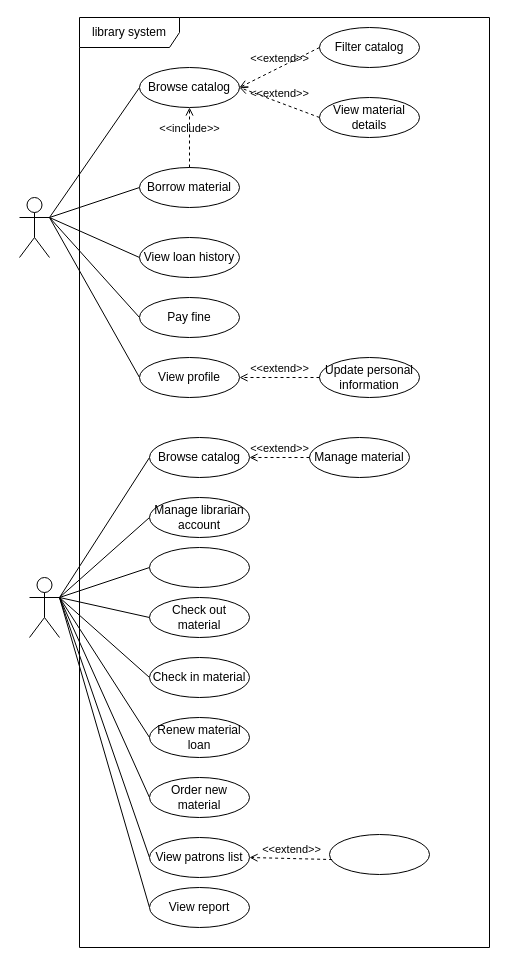
This 507x965 diagram has some shape labels left out. The shapes that lost their labels are listed below. From the top down, each one's centre as x and y in pixels, then its label:
the point at 34,227: Patron
the point at 199,567: Manage patron
the point at 44,607: Librarian
the point at 379,854: View patron debt
